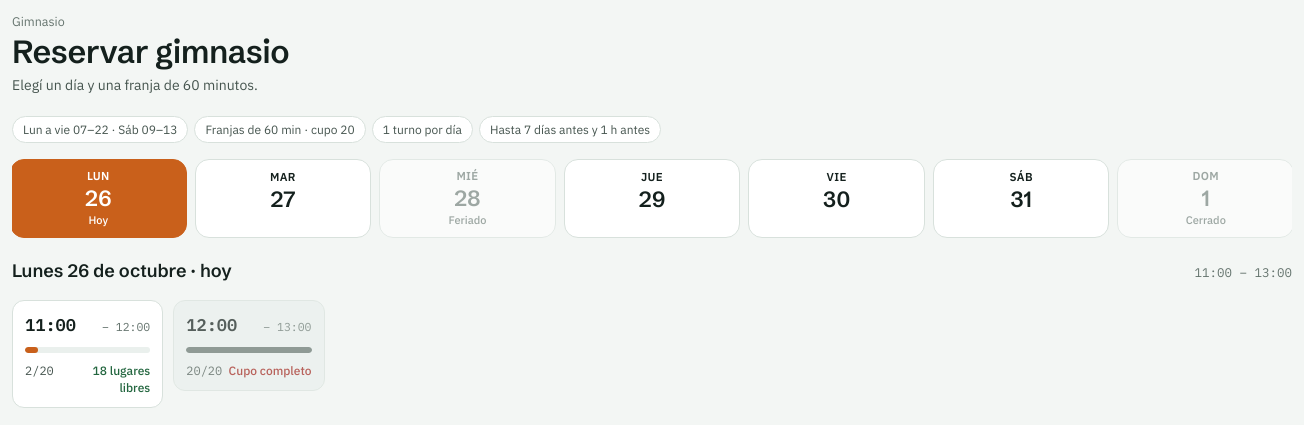
Scenario: ReservarGimnasioPage › el domingo dice Cerrado y no hay franjas
This screenshot has width=1304, height=425.
Click the button with aria-label "Dom 1, Cerrado" at (1205, 198), box [1118,159,1292,238]
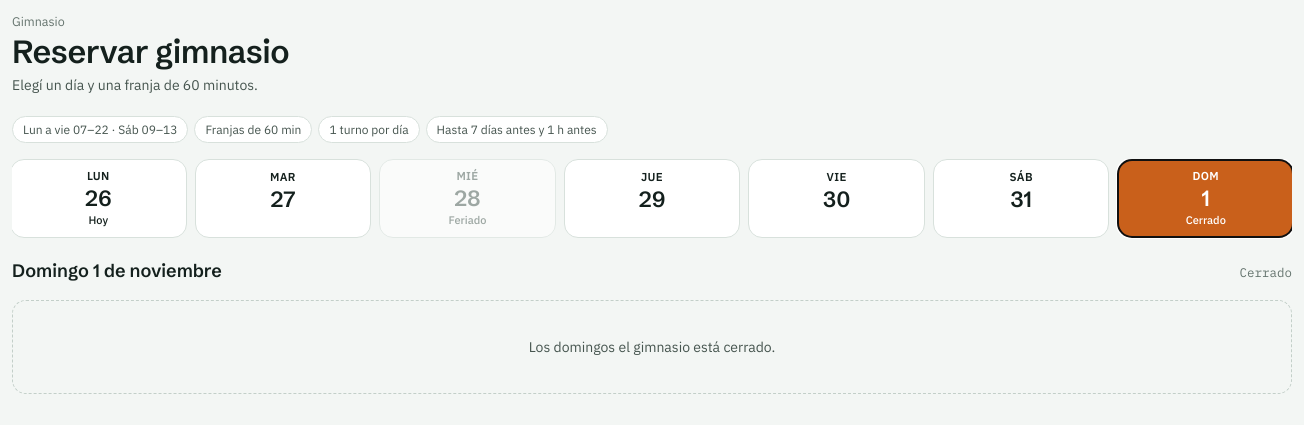
Check: the text "Los domingos el gimnasio está cerrado." is shown, box [12,300,1292,394]
Check: the button "lugares libres" is gone
